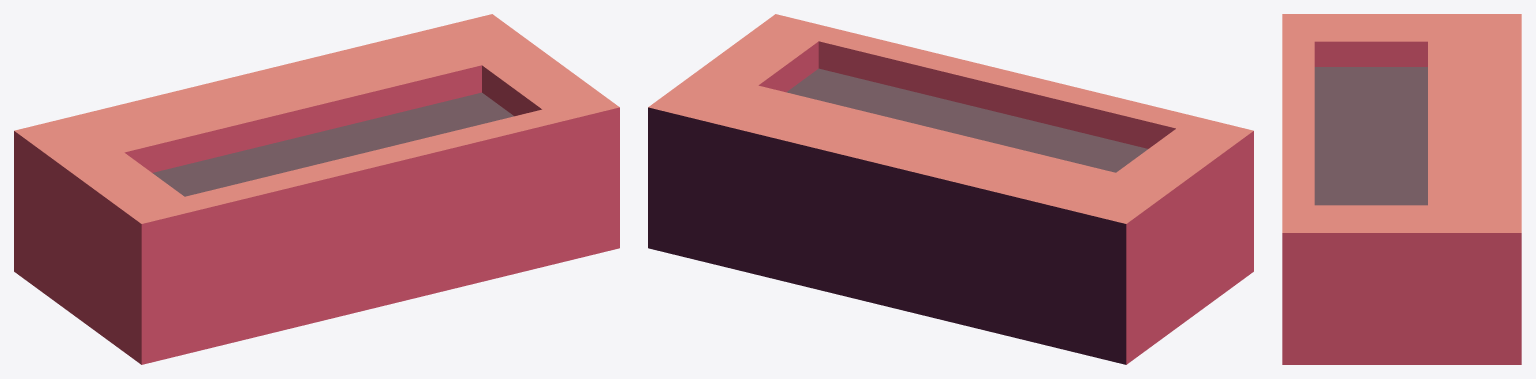
Rendered from PlanterBox_Pink01.glb.
The picture shows the model from 3 angles, left to right: view 1: azimuth 30°, elevation 25°; view 2: azimuth 150°, elevation 25°; view 3: azimuth 270°, elevation 25°; orthographic projection. The views are drawn at different scales.
Parts seen in each view (by area): view 1: PlanterBox_Pink01; view 2: PlanterBox_Pink01; view 3: PlanterBox_Pink01.
Boxes of the visible parts, left/top/right/bottom form: PlanterBox_Pink01: left=14, top=14, right=619, bottom=364; PlanterBox_Pink01: left=648, top=14, right=1253, bottom=364; PlanterBox_Pink01: left=1282, top=14, right=1521, bottom=364.
Bounding box in the file's own units: 0.9727 × 0.2738 × 0.4494.
Materials: 1 (1 with a texture image).
